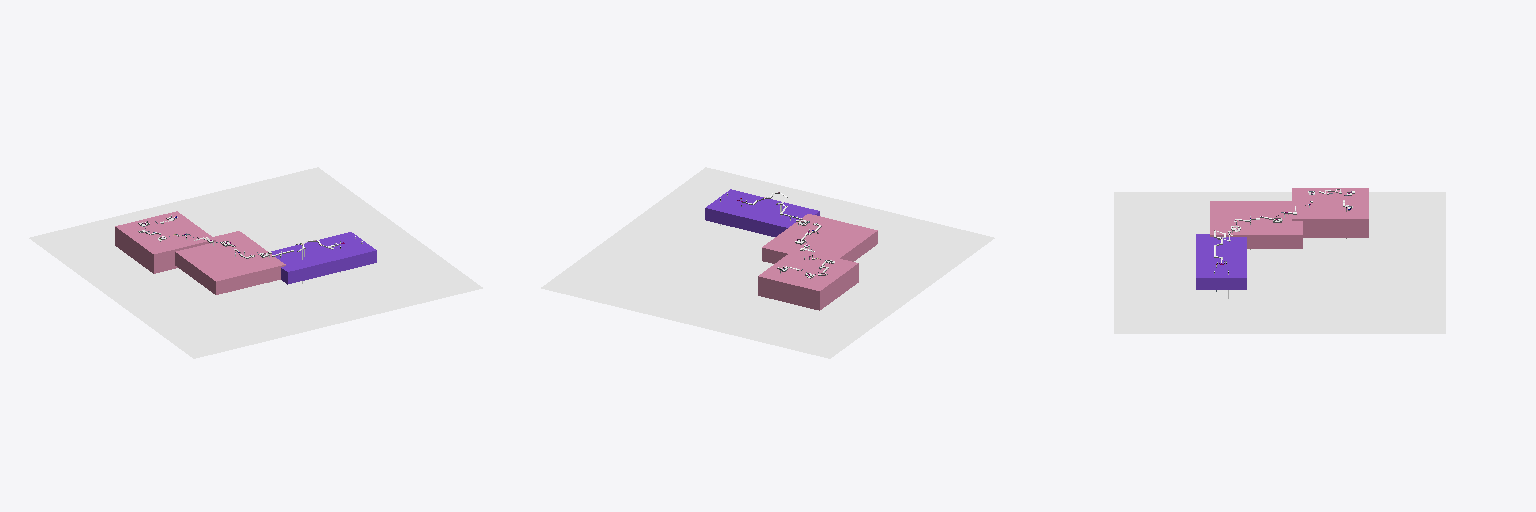
File: level1(1).obj
The picture shows the model from 3 angles: view 1: azimuth 30°, elevation 25°; view 2: azimuth 150°, elevation 25°; view 3: azimuth 270°, elevation 25°; orthographic projection.
Parts seen in each view (by area): view 1: objSkyLayer, objQuader02, objQuader01, objQuader03; view 2: objSkyLayer, objQuader01, objQuader02, objQuader03; view 3: objSkyLayer, objQuader02, objQuader01, objQuader03.
Boxes of the visible parts, x1,y1,x2,y2 form: objSkyLayer: [29, 167, 482, 358]; objQuader02: [175, 231, 285, 294]; objQuader01: [115, 211, 215, 273]; objQuader03: [271, 232, 376, 284]; objSkyLayer: [541, 167, 994, 358]; objQuader01: [758, 248, 858, 310]; objQuader02: [762, 214, 877, 263]; objQuader03: [705, 189, 819, 236]; objSkyLayer: [1114, 192, 1445, 333]; objQuader02: [1210, 201, 1302, 248]; objQuader01: [1292, 188, 1368, 237]; objQuader03: [1196, 234, 1246, 289].
Bounding box in the file's own units: 1893 × 436 × 1873.